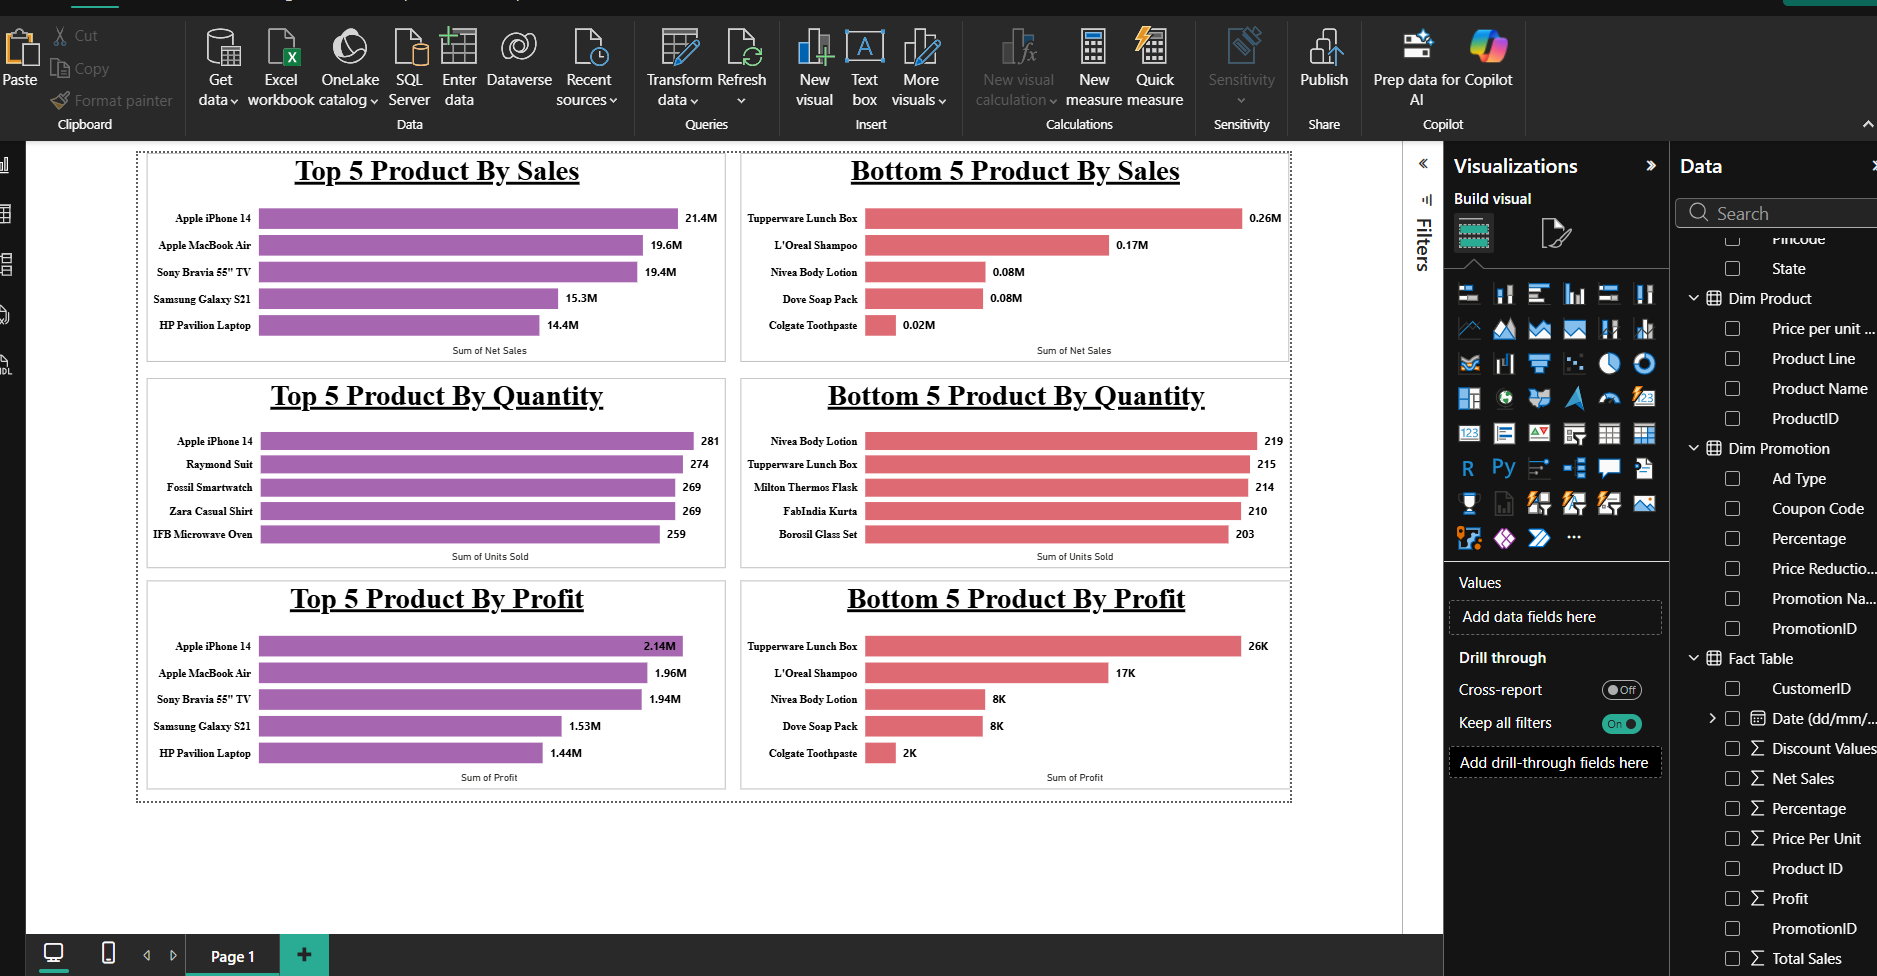

The dashboard page shown, as its layout file describes it:
{"tool":"powerbi","page":{"name":"Top/Bottom  5 Analysis","canvas":[1280,720],"ordinal":0},"visuals":[{"type":"barChart","title":"Top 5 Product By Sales ","fields":{"Category":["Dim Product.Product Name"],"Y":["Sum(Fact Table.Net Sales)"]},"box":[9.6,0,643.6,231.9],"z":0},{"type":"barChart","title":"Bottom 5 Product By Sales ","fields":{"Category":["Dim Product.Product Name"],"Y":["Sum(Fact Table.Net Sales)"]},"box":[669.6,0,609.3,231.9],"z":1000},{"type":"barChart","title":"Top 5 Product By Quantity","fields":{"Category":["Dim Product.Product Name"],"Y":["Sum(Fact Table.Units Sold)"]},"box":[9.7,250,643.1,211.1],"z":2000},{"type":"barChart","title":"Bottom 5 Product By Quantity","fields":{"Category":["Dim Product.Product Name"],"Y":["Sum(Fact Table.Units Sold)"]},"box":[669.4,250,611.1,211.1],"z":3000},{"type":"barChart","title":"Top 5 Product By Profit","fields":{"Category":["Dim Product.Product Name"],"Y":["Sum(Fact Table.Profit )"]},"box":[9.7,475,643.1,231.9],"z":4000},{"type":"barChart","title":"Bottom 5 Product By Profit","fields":{"Category":["Dim Product.Product Name"],"Y":["Sum(Fact Table.Profit )"]},"box":[669.4,475,611.1,231.9],"z":5000}]}

Visuals, with their boxes on the page's 1280x720 design canvas (x1, y1, x2, y2). These are canvas units, not pixel positions in the 1877x976 screenshot, which may show the page scaled, cropped or inside an application window:
"Top 5 Product By Sales " barChart: left=10, top=0, right=653, bottom=232
"Bottom 5 Product By Sales " barChart: left=670, top=0, right=1279, bottom=232
"Top 5 Product By Quantity" barChart: left=10, top=250, right=653, bottom=461
"Bottom 5 Product By Quantity" barChart: left=669, top=250, right=1280, bottom=461
"Top 5 Product By Profit" barChart: left=10, top=475, right=653, bottom=707
"Bottom 5 Product By Profit" barChart: left=669, top=475, right=1280, bottom=707
